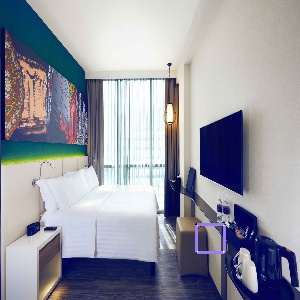square: (192, 222, 228, 257)
